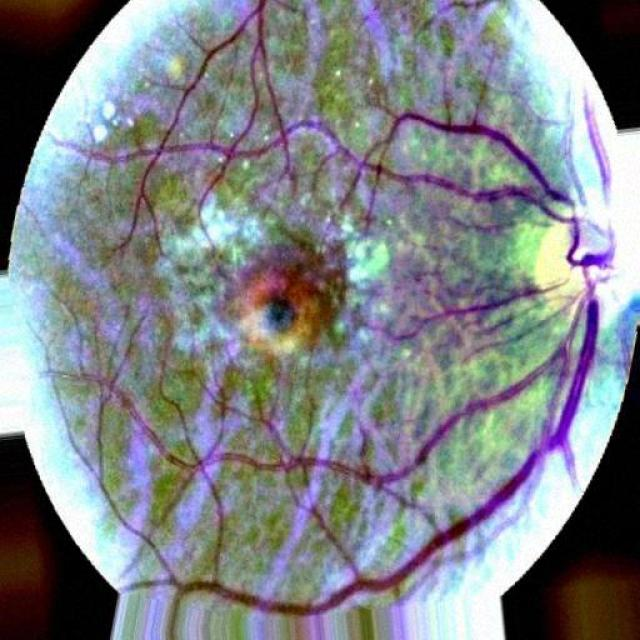Nerves: (56, 0, 614, 616)
Optic Disk: (533, 195, 639, 329)
